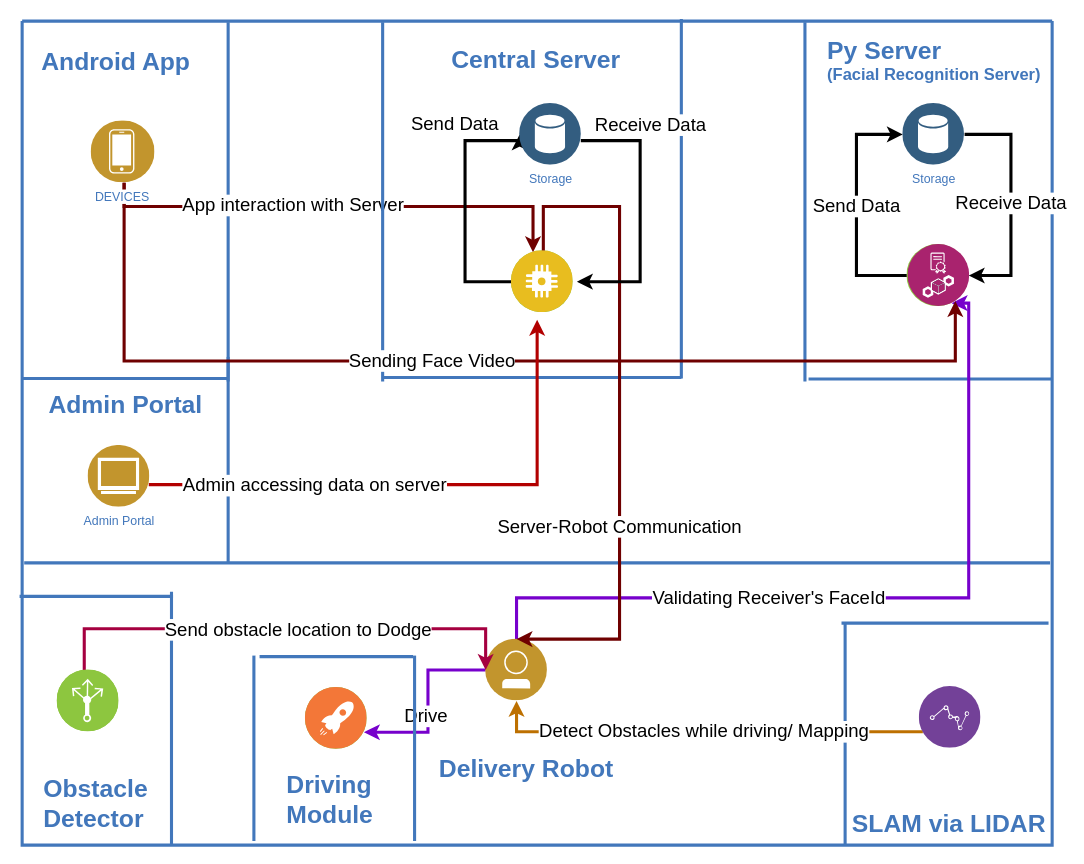
Some shapes in this 1084 by 864 pixel diagram are drawn without their labels. The shapes that lost their labels are listed below. From the top down, each one's box as (x1, y1, x2, y2) in pixels, then its label:
(907, 244, 969, 306): NODE I
(485, 639, 547, 700): Robot
